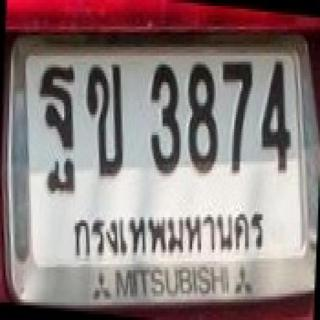A02: (82, 60, 131, 184)
A16: (32, 60, 81, 200)
N03: (144, 60, 185, 181)
N04: (257, 58, 296, 180)
N07: (220, 58, 256, 178)
N08: (186, 58, 222, 181)
P04: (68, 210, 270, 258)
